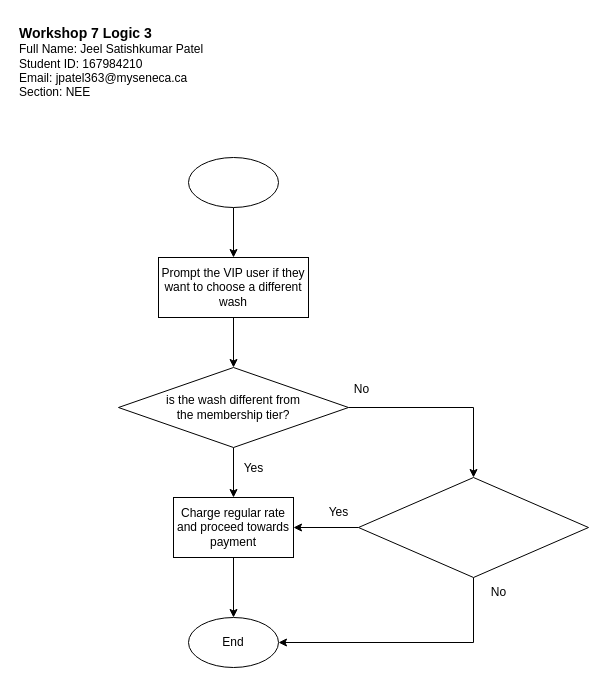
Some shapes in this 606 by 685 pixel diagram are drawn without their labels. The shapes that lost their labels are listed below. From the top down, each one's centre as x and y in pixels, then its label:
(x=233, y=182): Start
(x=473, y=527): Has the VIP user exceeded their 3-wash per day limit?
